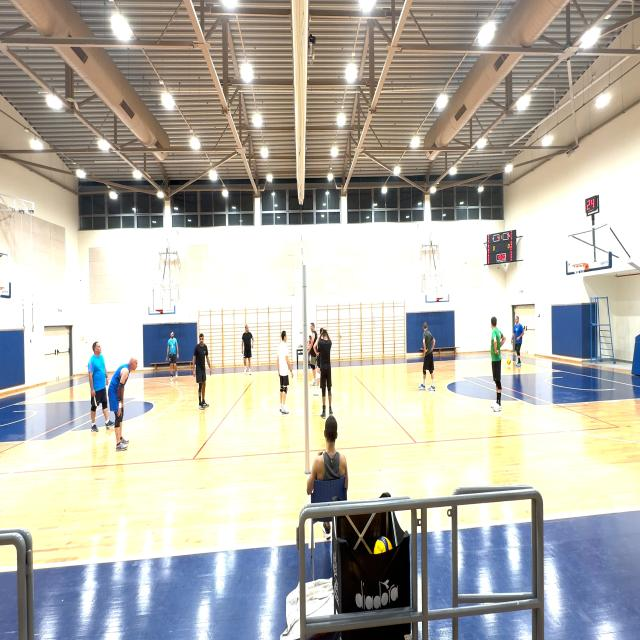volleyball: (373, 536, 392, 555), (507, 359, 510, 364)
